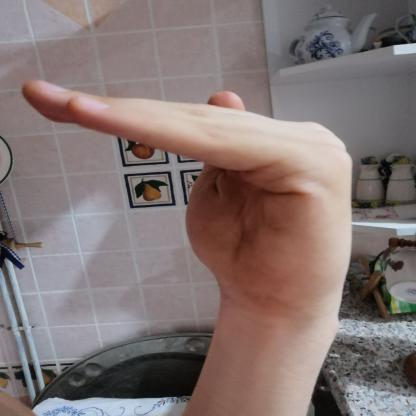KHAA: (4, 64, 374, 327)
